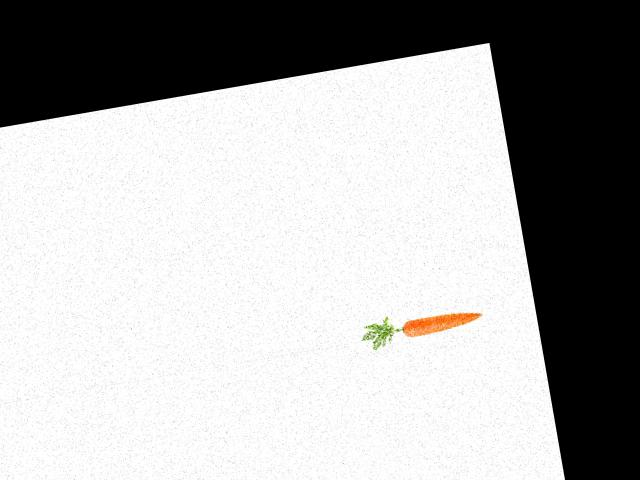carrot: (398, 304, 487, 341)
